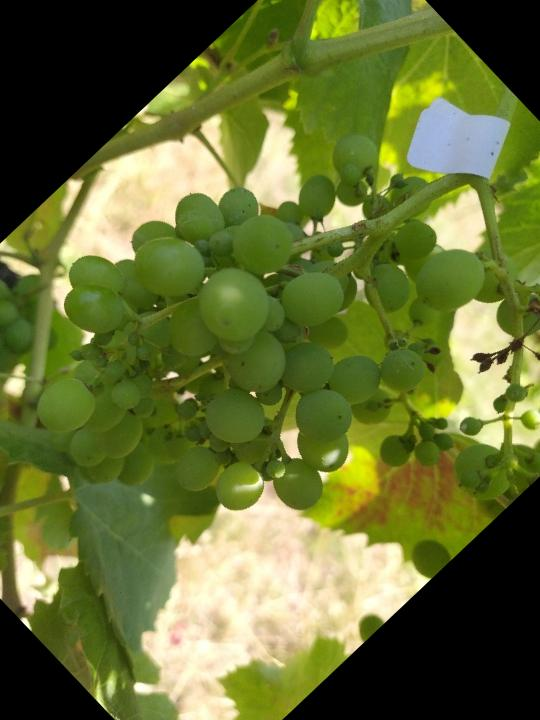grape: (0, 0, 540, 704)
